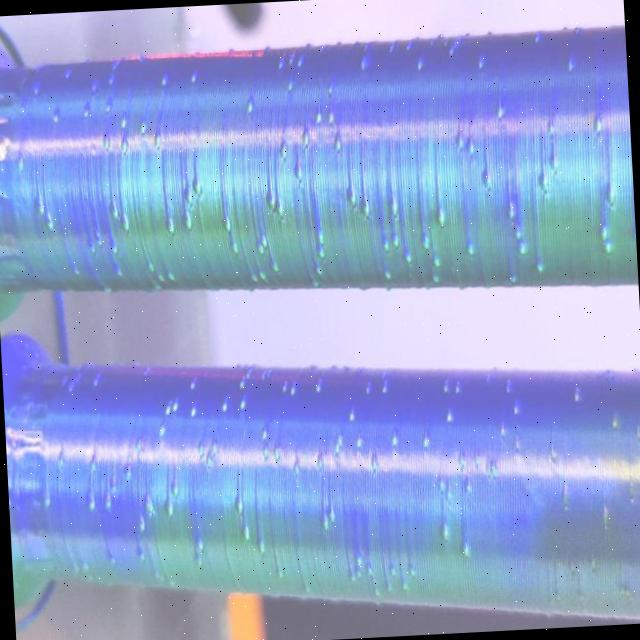blobs: (460, 533, 480, 564), (430, 203, 450, 228), (116, 209, 135, 234), (546, 144, 562, 173), (434, 517, 450, 543), (358, 192, 376, 215), (82, 490, 100, 512), (253, 236, 271, 257), (342, 180, 359, 202), (110, 260, 126, 282), (162, 398, 180, 417), (180, 186, 198, 205), (154, 68, 172, 87), (410, 55, 430, 72), (85, 454, 102, 474), (570, 384, 586, 405), (30, 78, 46, 99), (90, 370, 107, 389), (562, 52, 578, 72), (42, 213, 58, 233), (12, 150, 28, 170), (494, 103, 509, 124), (118, 134, 132, 156), (77, 100, 94, 118), (238, 522, 254, 541), (298, 127, 314, 146), (269, 257, 285, 276), (184, 69, 203, 85), (86, 241, 102, 260), (355, 54, 370, 74), (136, 510, 150, 531), (332, 132, 346, 153), (162, 213, 176, 234), (586, 554, 600, 575), (478, 168, 494, 186), (534, 170, 550, 188), (502, 374, 518, 392), (276, 195, 287, 221), (474, 51, 489, 70), (144, 494, 158, 514), (133, 544, 147, 564), (68, 264, 82, 284), (256, 263, 270, 282), (122, 460, 135, 480), (511, 218, 524, 238), (226, 238, 242, 254), (324, 504, 338, 522), (464, 135, 478, 153), (604, 184, 618, 202), (278, 139, 291, 158), (244, 96, 257, 115), (108, 204, 121, 223), (104, 68, 115, 90), (461, 478, 477, 493), (266, 188, 278, 208), (591, 114, 606, 130), (596, 222, 611, 238), (102, 488, 114, 508), (94, 233, 109, 249), (318, 514, 332, 531), (600, 236, 614, 253), (511, 400, 524, 418), (135, 116, 148, 134), (381, 236, 393, 255), (110, 238, 122, 257), (378, 378, 393, 393), (282, 78, 297, 93), (362, 378, 376, 394), (154, 424, 168, 440), (421, 233, 434, 250), (315, 263, 328, 280), (190, 178, 203, 195), (598, 506, 611, 523), (292, 158, 303, 178), (293, 52, 304, 72), (431, 252, 443, 270), (608, 414, 620, 432), (235, 495, 246, 514), (236, 392, 249, 408), (434, 474, 446, 491), (497, 422, 508, 440), (188, 375, 202, 389), (106, 550, 120, 564), (442, 408, 455, 423), (444, 486, 456, 502), (454, 130, 466, 146), (506, 200, 518, 216), (222, 214, 234, 230), (194, 554, 206, 570), (62, 66, 74, 82), (420, 432, 430, 451), (256, 534, 266, 553), (316, 227, 326, 246), (246, 269, 256, 288), (391, 232, 402, 249), (274, 562, 285, 579), (195, 536, 208, 550), (535, 260, 548, 274), (314, 378, 326, 393), (273, 56, 288, 68), (144, 256, 156, 271), (532, 32, 544, 47), (346, 410, 357, 426), (169, 479, 179, 496), (518, 237, 528, 254), (258, 429, 271, 442), (438, 380, 452, 392), (165, 502, 177, 516), (181, 216, 193, 230), (89, 78, 101, 92), (314, 109, 325, 124), (404, 250, 417, 262), (150, 136, 163, 148), (38, 494, 50, 507), (291, 460, 302, 474), (466, 242, 477, 256), (316, 242, 327, 256), (51, 107, 60, 124), (118, 111, 126, 130), (34, 200, 44, 215), (280, 378, 289, 394), (388, 431, 399, 444), (287, 384, 298, 397), (406, 562, 416, 576), (316, 456, 326, 470), (326, 108, 334, 125), (155, 266, 164, 281), (352, 554, 363, 566), (384, 578, 392, 594), (167, 266, 176, 280), (220, 399, 228, 414), (630, 227, 636, 246), (389, 562, 397, 576), (366, 562, 374, 575), (356, 435, 366, 445), (401, 580, 410, 591), (356, 568, 364, 578), (192, 407, 198, 415)
